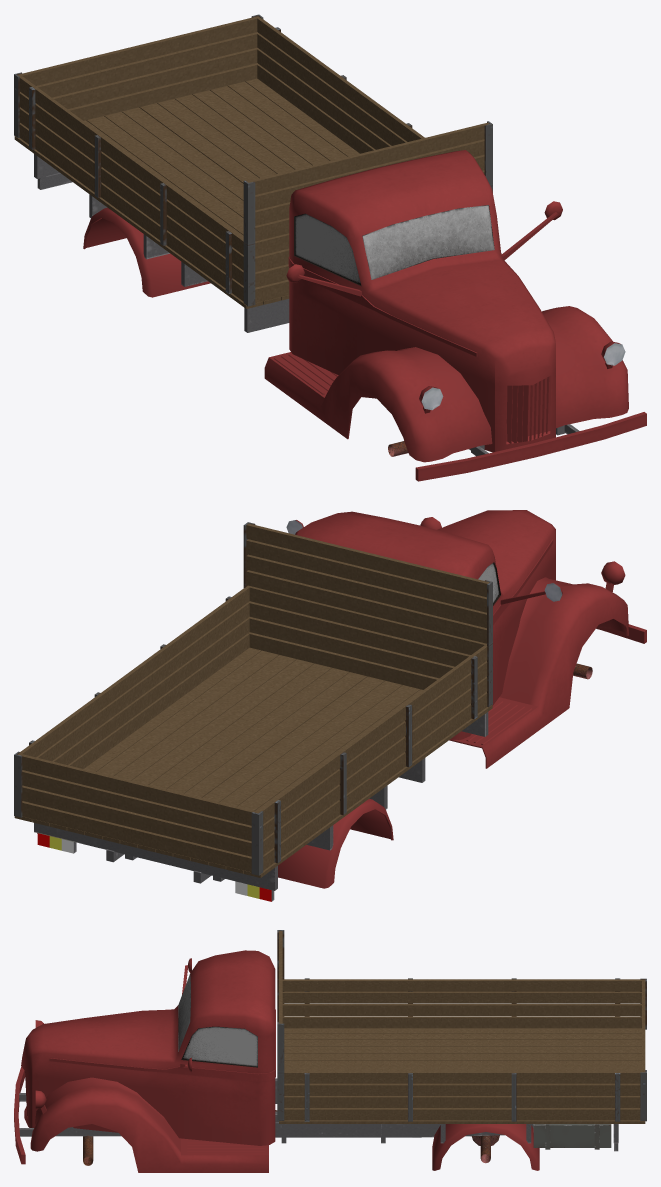
The model's file is TruckS1.fbx.
3 renders of one model, top to bottom at view 1: azimuth 30°, elevation 25°; view 2: azimuth 150°, elevation 25°; view 3: azimuth 270°, elevation 25°, orthographic. The views are drawn at different scales.
Parts seen in each view (by area): view 1: Cube_003; view 2: Cube_003; view 3: Cube_003.
Part boxes in pixels (x1=…): Cube_003: x1=14, y1=14, x2=646, y2=481; Cube_003: x1=14, y1=510, x2=646, y2=901; Cube_003: x1=14, y1=930, x2=646, y2=1172.
Bounding box in the file's own units: 251 × 184 × 632.
